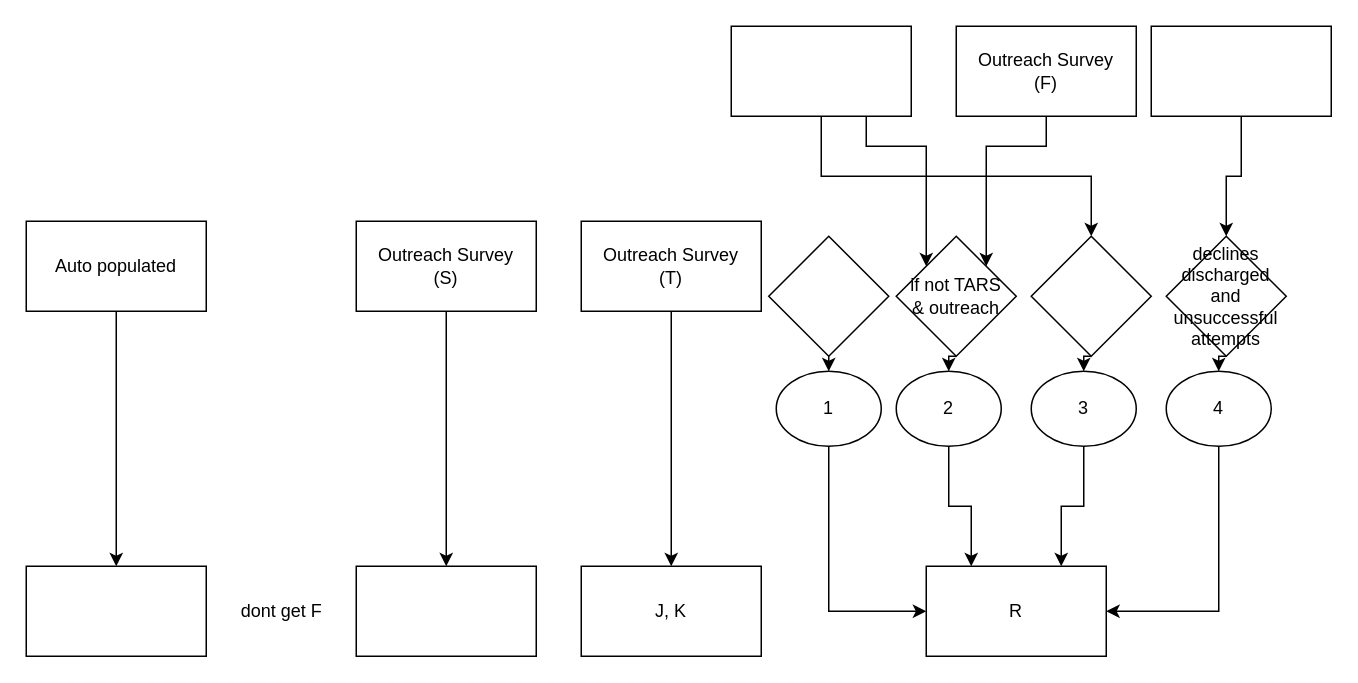
The diagram is 1358 pixels wide and 683 high, and some of its shapes have lost their labels. Here are the shapes that lost their labels. From the top down, the centre of each, then its label:
point (820, 70): TARS (H,G)
point (1240, 70): Master CM List
point (828, 295): if not TARS & not outre
point (1090, 295): if TAR(H) & G = PF
point (115, 610): A-D
point (445, 610): E, G-I
